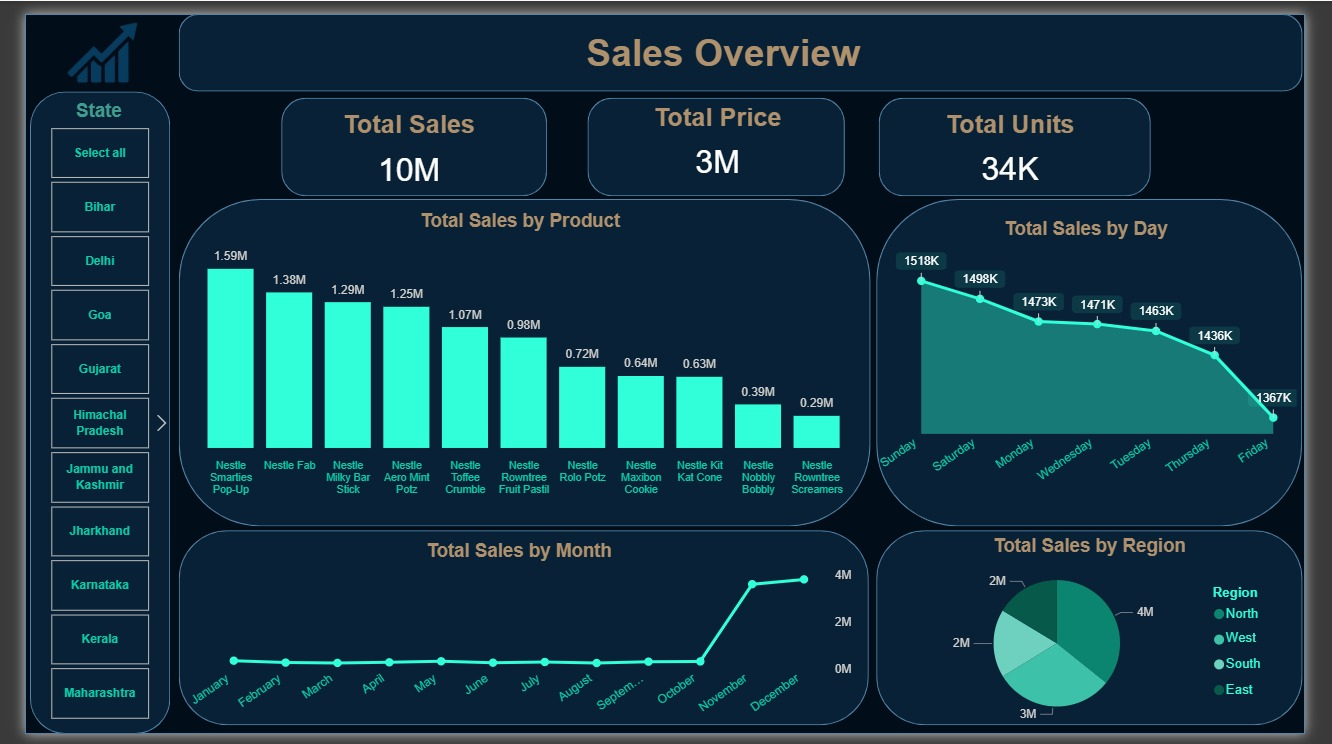

Layout of this report page (visuals, bound fields, positions):
{"tool":"powerbi","page":{"name":"Page 1","canvas":[1280,720],"ordinal":0},"visuals":[{"type":"shape","box":[0,0,1280,720],"z":0},{"type":"shape","box":[851.2,516.2,426.2,195],"z":1000},{"type":"pieChart","title":" Total Sales by Region","fields":{"Category":["Sales Data.Region"],"Y":["Sum(Sales Data.Total Sales)"]},"box":[871.4,521.8,386.5,195.7],"z":2000},{"type":"shape","box":[153.8,0,1123.7,77.5],"z":3000},{"type":"textbox","box":[556.3,12.3,320,52.9],"z":4000},{"type":"shape","box":[4.9,77.5,140.3,642.5],"z":5000},{"type":"card","title":"Total Sales","fields":{"Values":["Sum(Sales Data.Total Sales)"]},"box":[199.4,204.3,190.8,88.6],"z":6000},{"type":"shape","box":[854.2,83.7,272,98.5],"z":7000},{"type":"shape","box":[562.5,83.7,257.2,98.5],"z":8000},{"type":"card","title":"Total Price","fields":{"Values":["Sum(Sales Data.Price)"]},"box":[588.3,88.6,208,88.6],"z":9000},{"type":"card","title":"Total Units","fields":{"Values":["Sum(Sales Data.Units)"]},"box":[878.8,96,212.9,86.2],"z":10000},{"type":"slicer","title":"State","fields":{"Values":["Sales Data.State"]},"box":[0,86.2,147.7,625.2],"z":11000},{"type":"shape","box":[153.8,516.2,690,195],"z":12000},{"type":"lineChart","title":"Total Sales by Month","fields":{"Category":["Sales Data.Date.Variation.Date Hierarchy.Month"],"Y":["Sum(Sales Data.Total Sales)"]},"box":[156.3,526.8,675.7,184.6],"z":13000},{"type":"shape","box":[153.8,184.6,691.7,327.4],"z":14000},{"type":"columnChart","title":"Total Sales by Product","fields":{"Category":["Sales Data.Product"],"Y":["Sum(Sales Data.Total Sales)"]},"box":[146.5,195.7,697.8,292.9],"z":15000},{"type":"shape","box":[851.7,184.6,425.8,327.4],"z":16000},{"type":"lineChart","title":"Total Sales by Day","fields":{"Category":["Sales Data.Day"],"Y":["Sum(Sales Data.Total Sales)"]},"box":[845.5,204.3,432,284.3],"z":17000},{"type":"shape","box":[256,83.7,265.8,98.5],"z":18000},{"type":"card","title":"Total Sales","fields":{"Values":["Sum(Sales Data.Total Sales)"]},"box":[295.4,96,178.5,88.6],"z":19000},{"type":"image","box":[0,0,153.8,77.5],"z":20000}]}

Visuals, with their boxes in screenshot pixels (x1, y1, x2, y2), scaled from the page's 1280x720 canvas onto the 1332x744 screenshot:
shape: (x1=0, y1=0, x2=1331, y2=743)
shape: (x1=886, y1=533, x2=1329, y2=735)
" Total Sales by Region" pieChart: (x1=907, y1=539, x2=1309, y2=741)
shape: (x1=160, y1=0, x2=1329, y2=80)
textbox: (x1=579, y1=13, x2=912, y2=67)
shape: (x1=5, y1=80, x2=151, y2=743)
"Total Sales" card: (x1=208, y1=211, x2=406, y2=303)
shape: (x1=889, y1=86, x2=1172, y2=188)
shape: (x1=585, y1=86, x2=853, y2=188)
"Total Price" card: (x1=612, y1=92, x2=829, y2=183)
"Total Units" card: (x1=915, y1=99, x2=1136, y2=188)
"State" slicer: (x1=0, y1=89, x2=154, y2=735)
shape: (x1=160, y1=533, x2=878, y2=735)
"Total Sales by Month" lineChart: (x1=163, y1=544, x2=866, y2=735)
shape: (x1=160, y1=191, x2=880, y2=529)
"Total Sales by Product" columnChart: (x1=152, y1=202, x2=879, y2=505)
shape: (x1=886, y1=191, x2=1329, y2=529)
"Total Sales by Day" lineChart: (x1=880, y1=211, x2=1329, y2=505)
shape: (x1=266, y1=86, x2=543, y2=188)
"Total Sales" card: (x1=307, y1=99, x2=493, y2=191)
image: (x1=0, y1=0, x2=160, y2=80)
